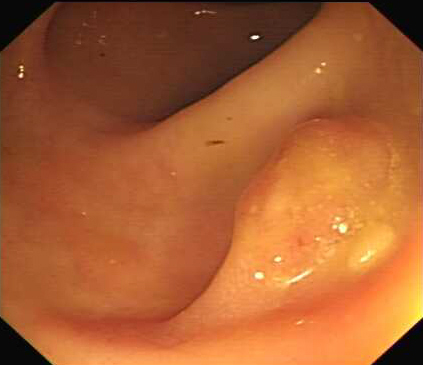adenoma: (228, 116, 408, 294)
